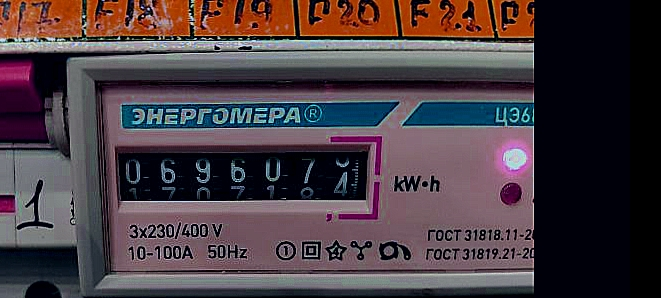0: (122, 154, 142, 184), (263, 152, 282, 182)
4: (330, 168, 349, 196)
6: (156, 153, 178, 184), (228, 154, 247, 182)
7: (298, 153, 315, 183)
9: (193, 155, 211, 184)
screen: (97, 127, 383, 218)
